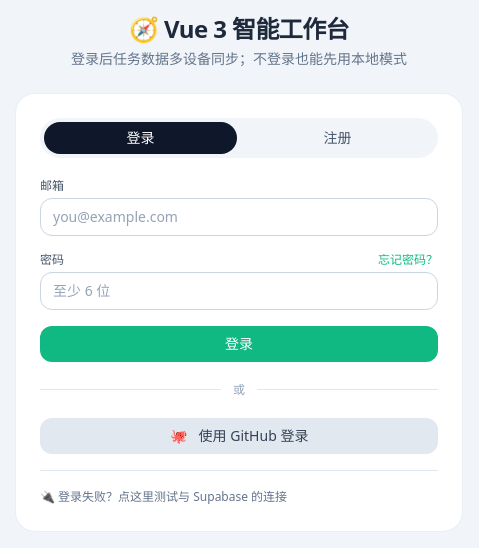
Scenario: Login 页 › 忘记密码 › 登录页有「忘记密码？」入口，点了切到重置模式（只剩邮箱字段）
Click the button with test id "login-forgot-password" at [408, 260], box 378,252 -> 438,268
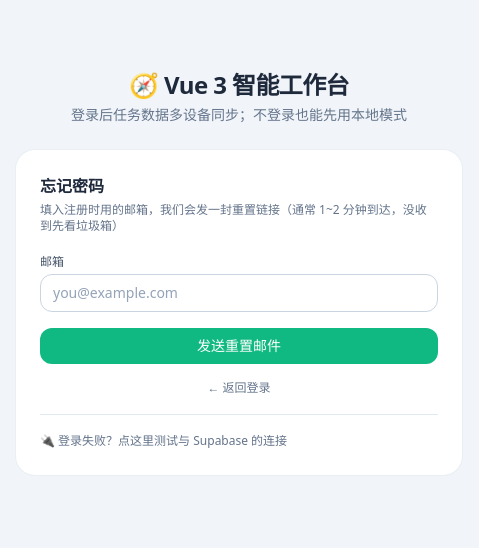
expect the text "忘记密码" is shown: met, box 40,174 -> 104,196
expect the button with test id "login-submit" reads "发送重置邮件": met, box 40,328 -> 438,364
